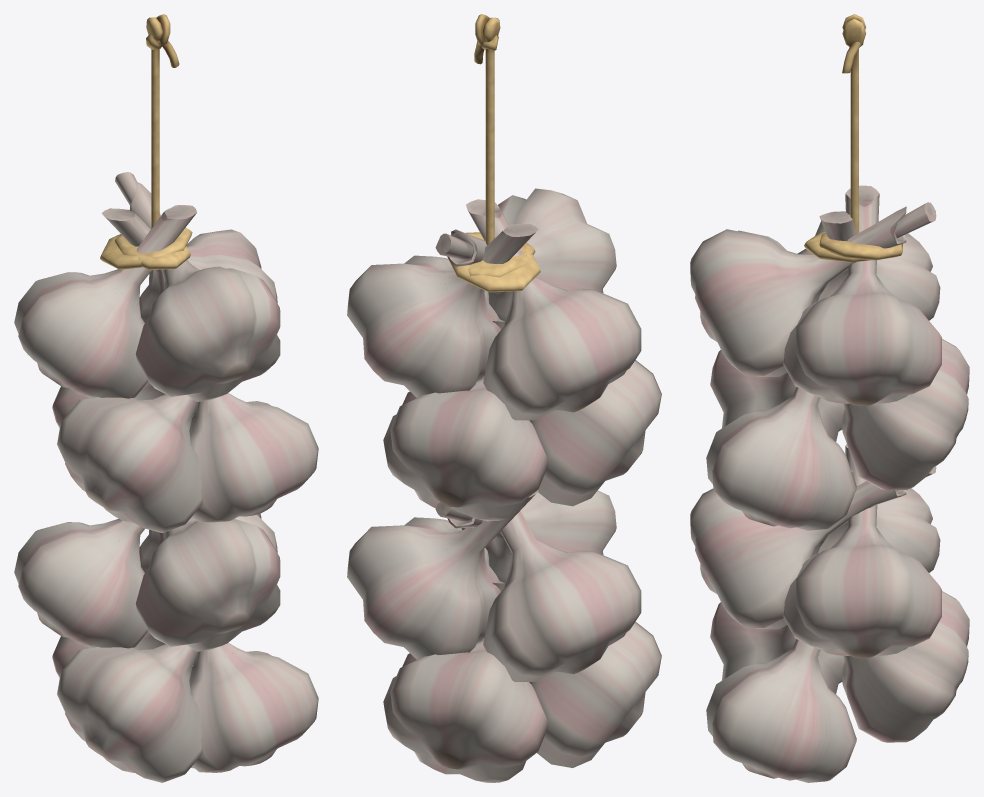
Rendered from Garlic.fbx.
The picture shows the model from 3 angles, left to right: view 1: azimuth 30°, elevation 25°; view 2: azimuth 150°, elevation 25°; view 3: azimuth 270°, elevation 25°; orthographic projection. The views are drawn at different scales.
Parts seen in each view (by area): view 1: U_Garlic; view 2: U_Garlic; view 3: U_Garlic.
Boxes of the visible parts, bbox=[...] form: U_Garlic: bbox=[14, 14, 318, 782]; U_Garlic: bbox=[347, 14, 661, 782]; U_Garlic: bbox=[690, 14, 969, 782].
Bounding box in the file's own units: 46.65 × 129 × 43.96.
Materials: 1 (1 with a texture image).
